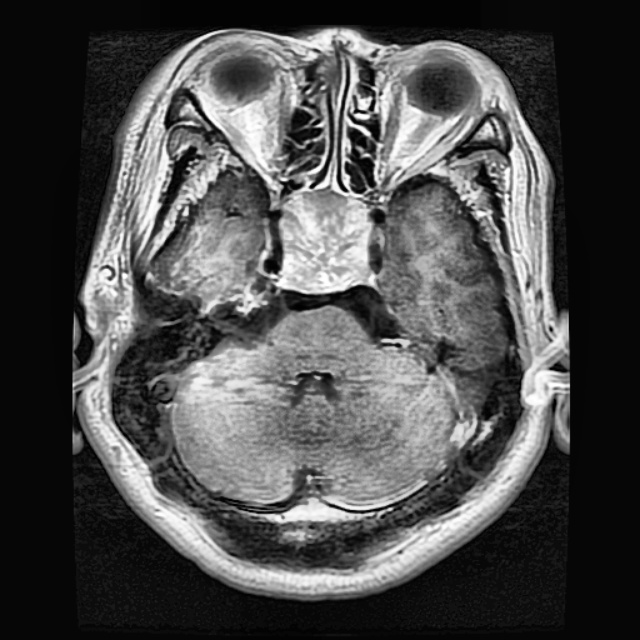Pituitary: (278, 188, 372, 289)
